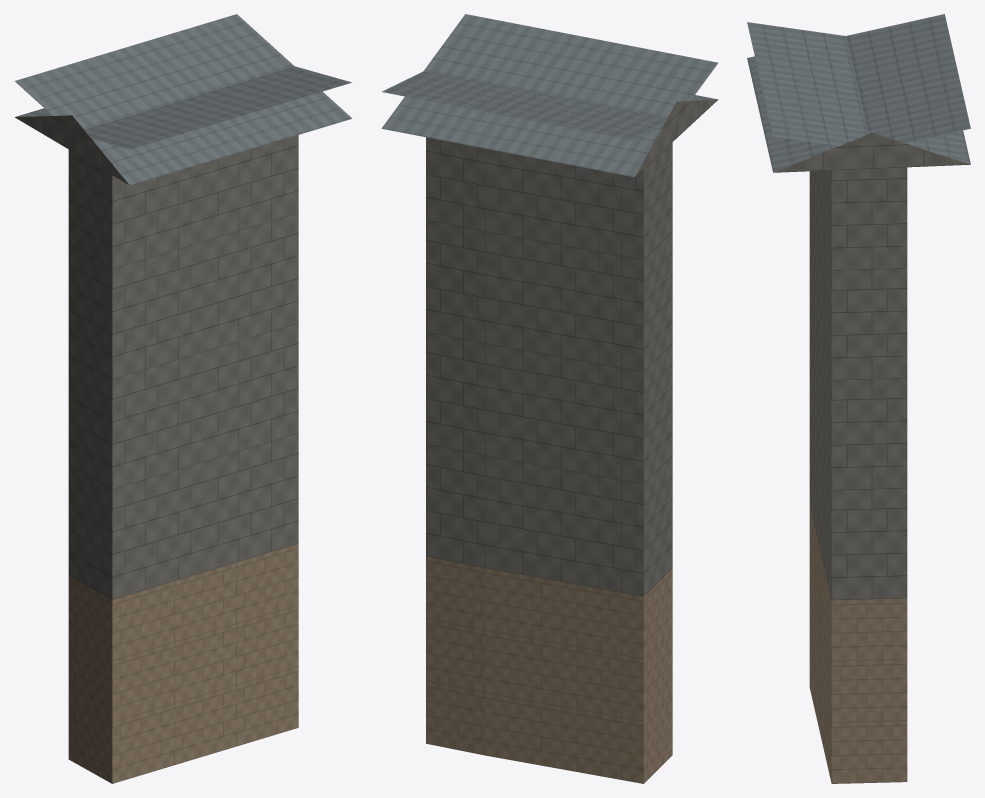
Rendered from bld_c-1_0_535.gltf.
3 renders of one model, left to right at view 1: azimuth 30°, elevation 25°; view 2: azimuth 150°, elevation 25°; view 3: azimuth 270°, elevation 25°, orthographic. The views are drawn at different scales.
Visible parts, largest first — view 1: bld_c-1_0_535; view 2: bld_c-1_0_535; view 3: bld_c-1_0_535.
Boxes of the visible parts, x1,y1,x2,y2 form: bld_c-1_0_535: [14, 14, 352, 783]; bld_c-1_0_535: [381, 14, 718, 783]; bld_c-1_0_535: [747, 14, 970, 783].
Bounding box in the file's own units: 7.31 × 18.3 × 5.63.
Materials: 4 (4 with a texture image).
